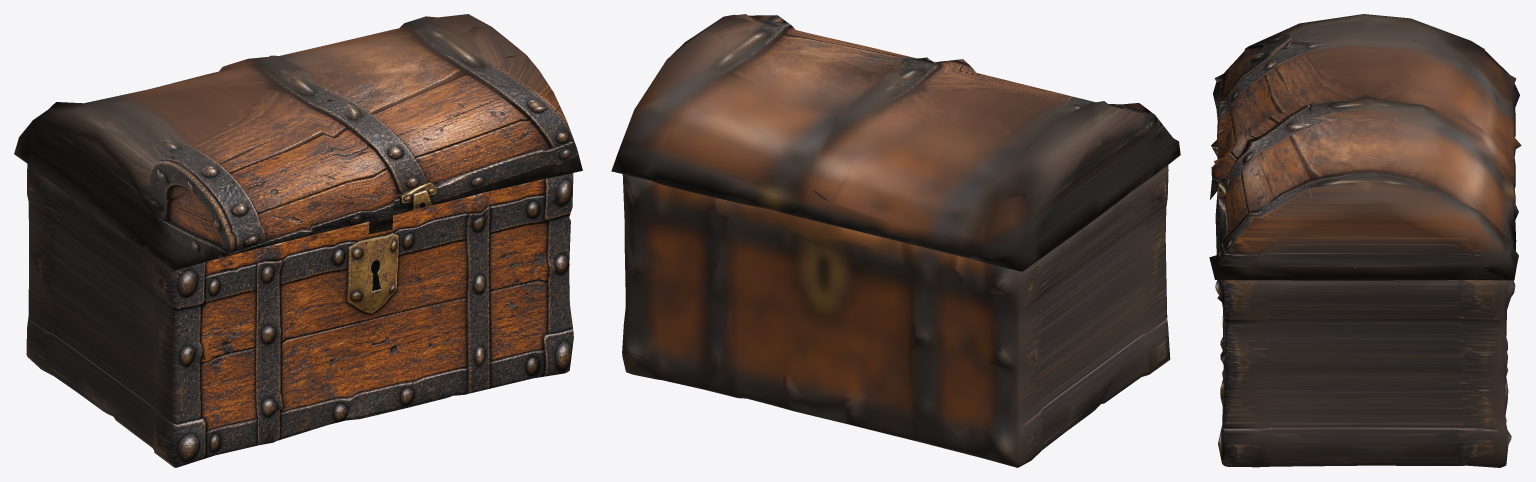
File: chest.glb
3 renders of one model, left to right at view 1: azimuth 30°, elevation 25°; view 2: azimuth 150°, elevation 25°; view 3: azimuth 270°, elevation 25°, orthographic. The views are drawn at different scales.
Visible parts, largest first — view 1: chest_base, chest_lid; view 2: chest_base, chest_lid; view 3: chest_lid, chest_base.
Part boxes in pixels (box(x1,y1,x2,y2)): chest_base: box(26, 164, 573, 467); chest_lid: box(14, 14, 582, 270); chest_base: box(622, 165, 1170, 467); chest_lid: box(611, 14, 1180, 271); chest_lid: box(1209, 14, 1521, 280); chest_base: box(1215, 280, 1515, 467).
Size of the model in its own units: 0.571 by 0.3913 by 0.3919.
2 materials, 2 textured.
